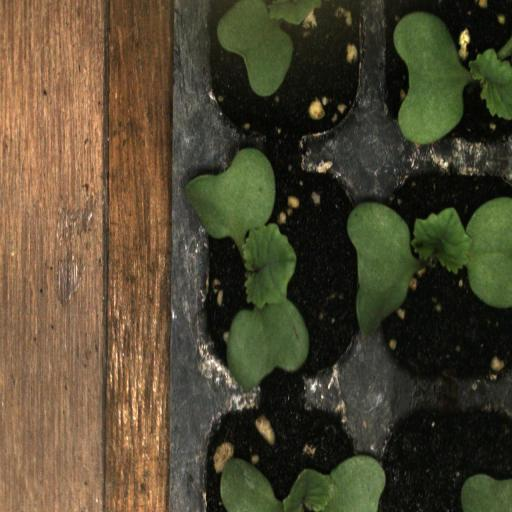seedling: (193, 162, 376, 387), (375, 160, 512, 388), (374, 0, 512, 161)
